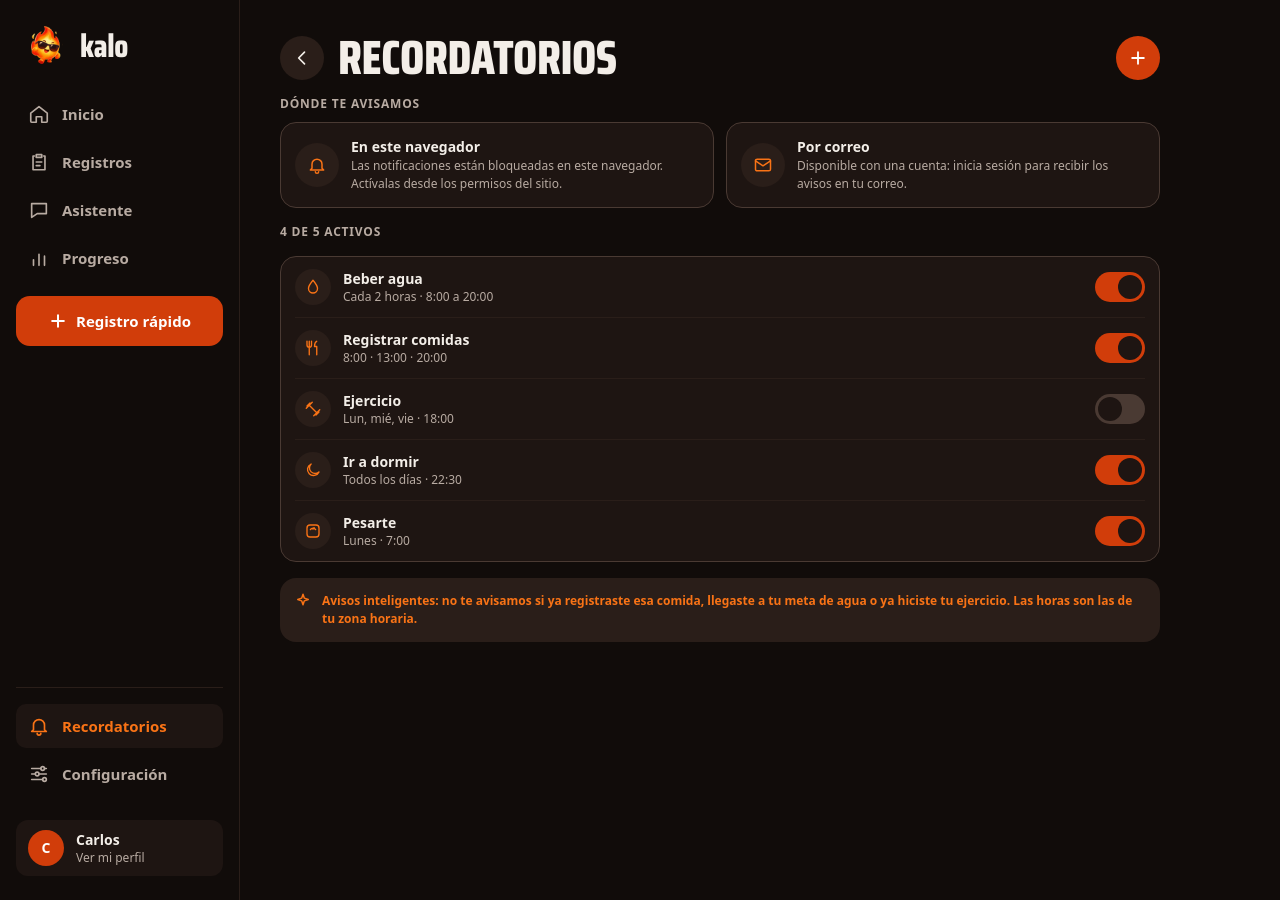
Test: Recordatorios y Configuración › activa, desactiva y crea recordatorios, y los recuerda
Expected: the heading "4 de 5 activos" is shown, [280,223,381,240]
Expected: the text "Cada 2 horas · 8:00 a 20:00" is shown, [343,288,493,305]
Click the switch named "Ejercicio".
click(1120, 409)  # box [1095,387,1145,431]
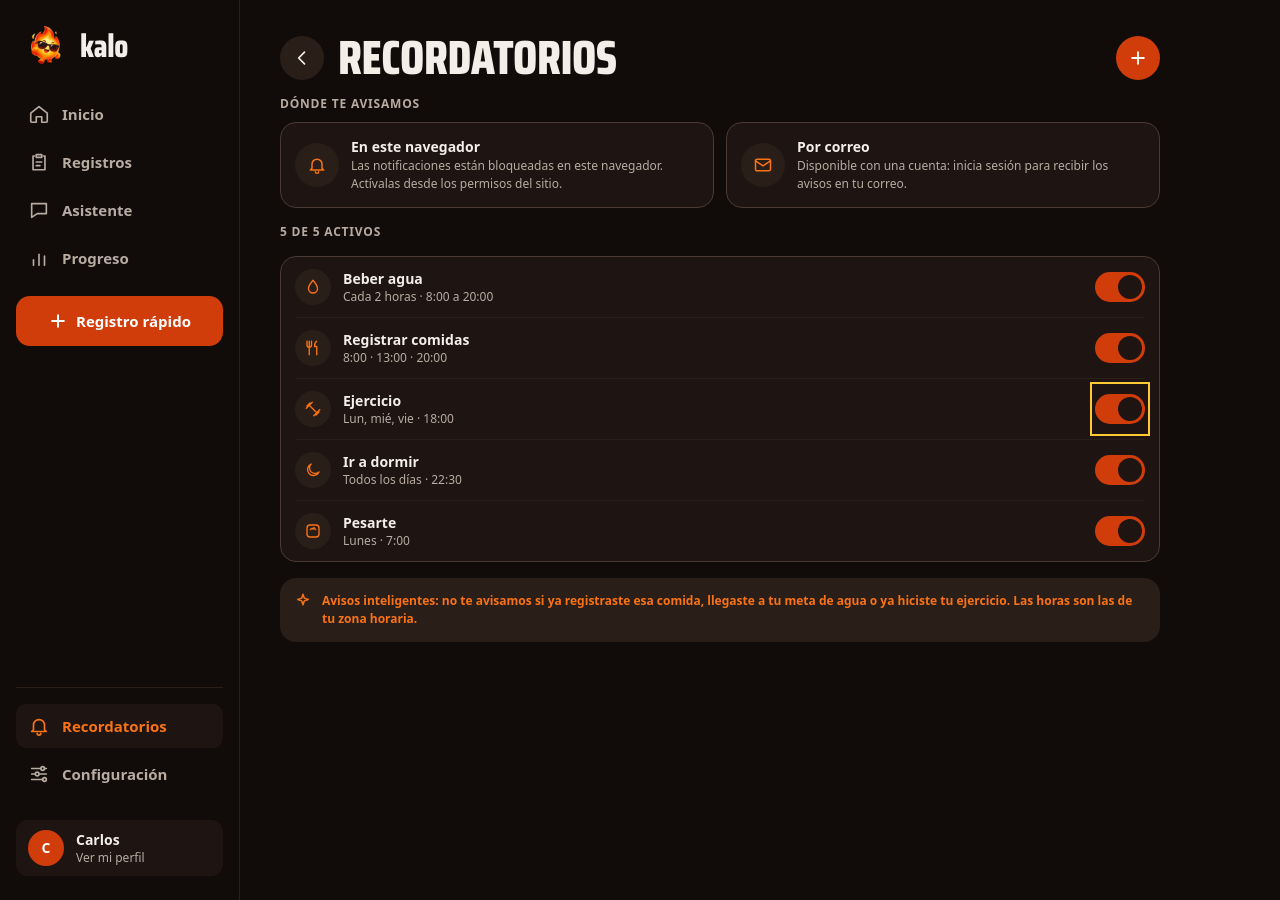
Result: the heading "5 de 5 activos" is shown at [280,223,381,240]
Click the button named "Nuevo recordatorio".
click(1138, 58)  # box [1116,36,1160,80]
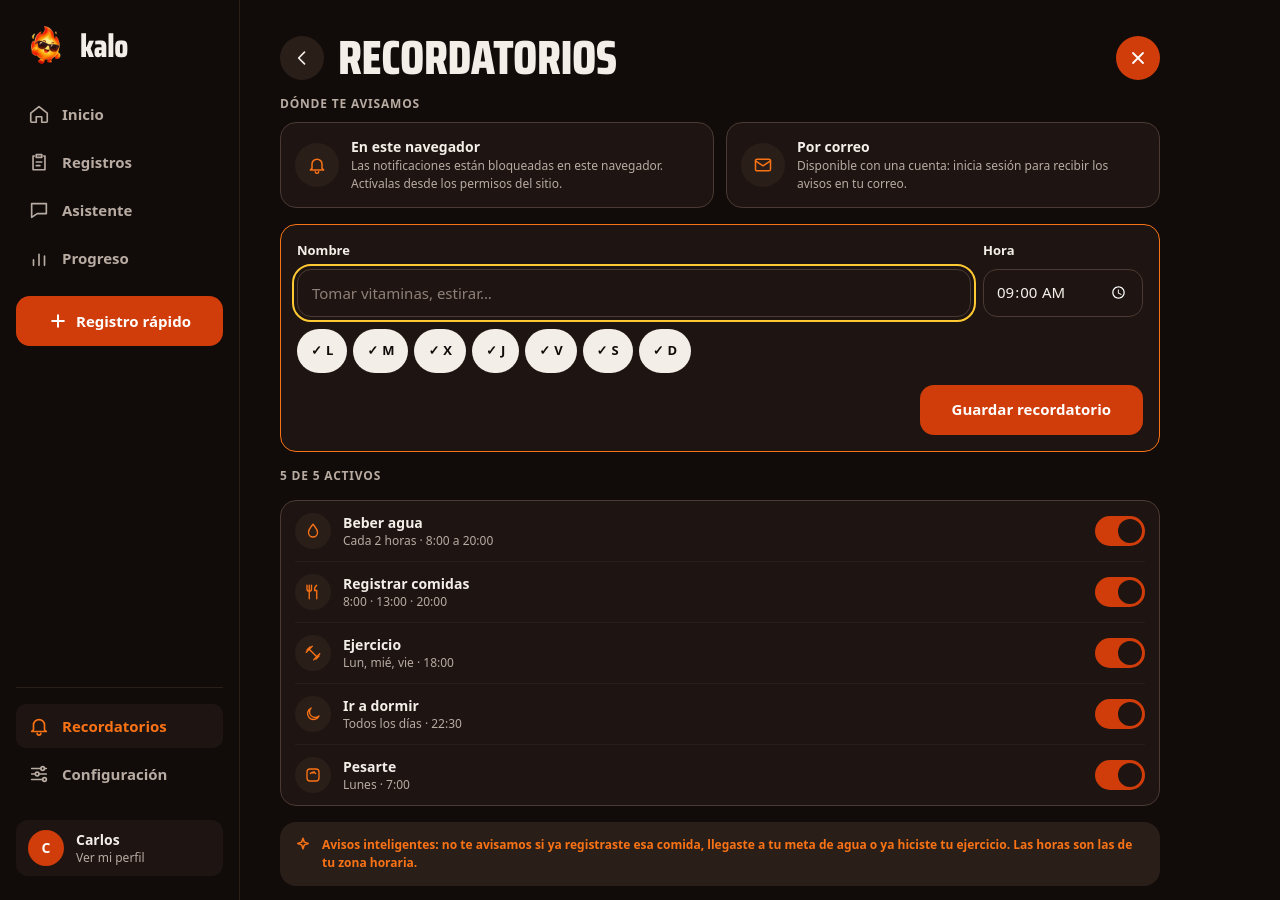
Type "Tomar vitaminas" into the field labelled "Nombre".
click(634, 292); type("Tomar vitaminas")  # box [297,268,971,316]
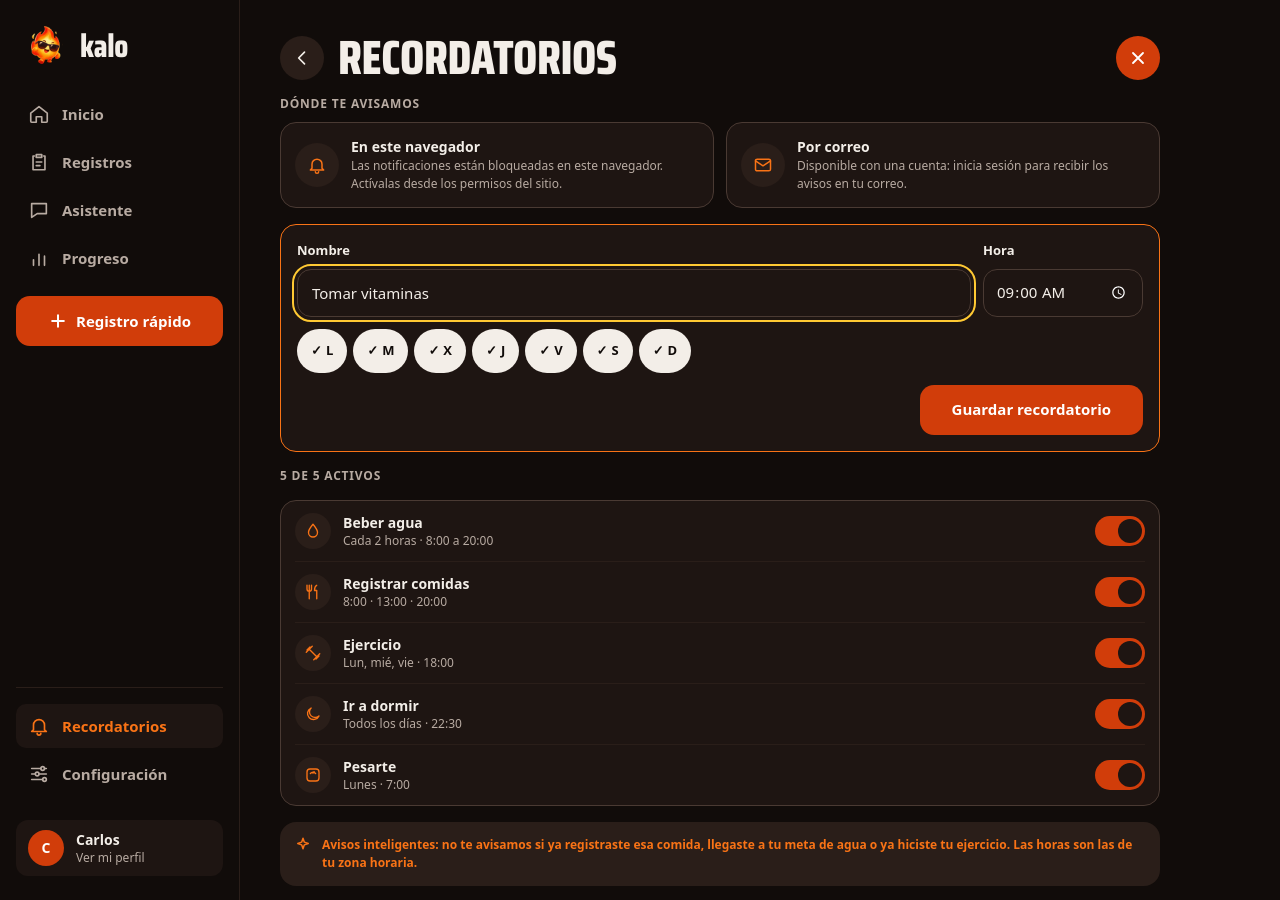
Click the button "Guardar recordatorio".
click(1031, 410)  # box [920,384,1143,434]
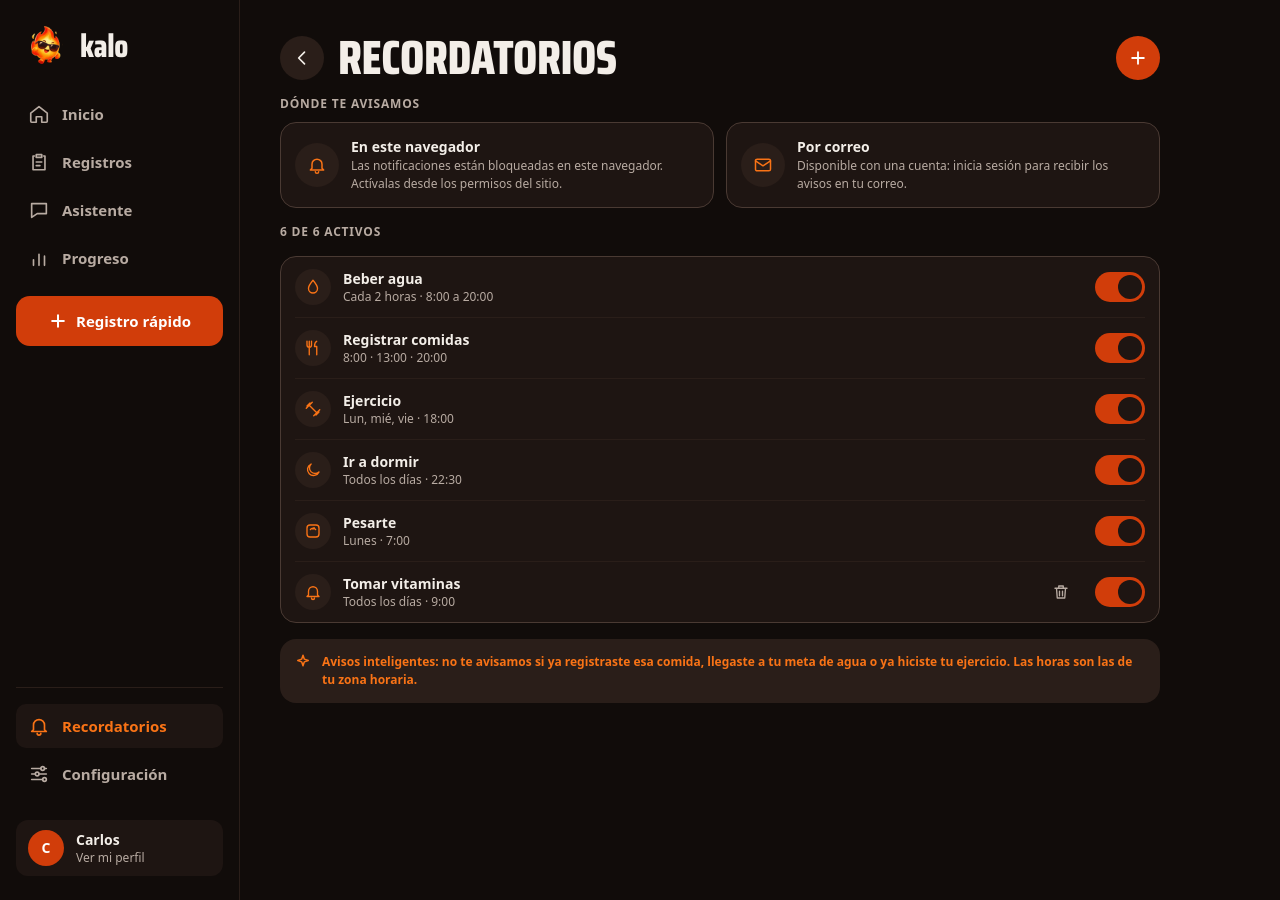
Result: the text "Tomar vitaminas" is shown at [343,574,460,593]
Result: the text "Todos los días · 9:00" is shown at [343,593,455,610]
Result: the heading "6 de 6 activos" is shown at [280,223,381,240]
Click the button named "Eliminar Tomar vitaminas".
click(1061, 592)  # box [1039,570,1083,614]
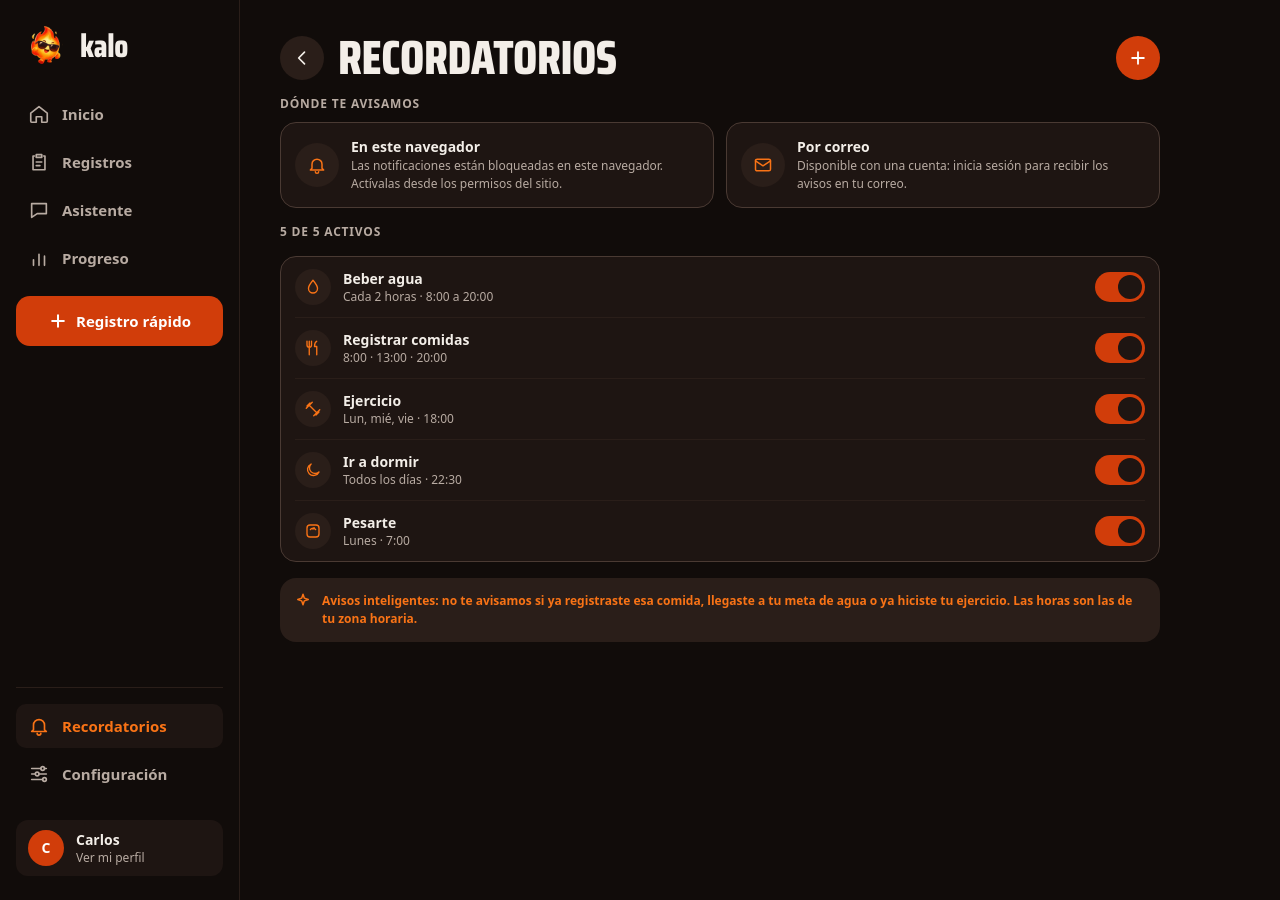
Result: the text "Tomar vitaminas" is gone
